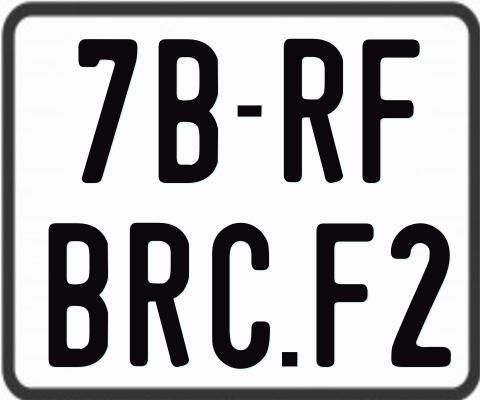2: (388, 221, 451, 371)
7: (78, 36, 141, 184)
B: (157, 39, 222, 187), (47, 223, 107, 369)
C: (211, 222, 275, 370)
F: (315, 223, 378, 367), (360, 38, 422, 183)
R: (282, 39, 347, 186), (130, 222, 189, 371)
